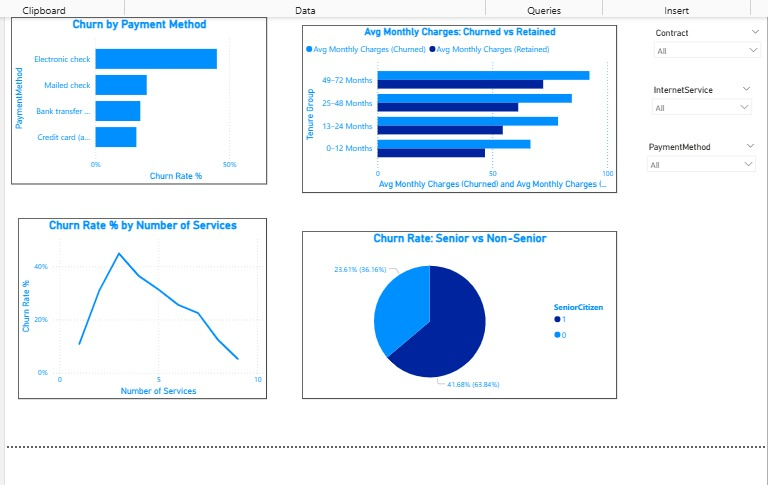

The dashboard page shown, as its layout file describes it:
{"tool":"powerbi","page":{"name":"Deep Dive","canvas":[1280,720],"ordinal":1},"visuals":[{"type":"barChart","title":"Churn by Payment Method","fields":{"Category":["WA_Fn-UseC_-Telco-Customer-Churn.PaymentMethod"],"Y":["WA_Fn-UseC_-Telco-Customer-Churn.Churn Rate %"]},"box":[10.1,0,430,280.5],"z":0},{"type":"clusteredBarChart","title":"Avg Monthly Charges: Churned vs Retained","fields":{"Category":["WA_Fn-UseC_-Telco-Customer-Churn.Tenure Group"],"Y":["WA_Fn-UseC_-Telco-Customer-Churn.Avg Monthly Charges (Churned)","WA_Fn-UseC_-Telco-Customer-Churn.Avg Monthly Charges (Retained)"]},"box":[498.9,13.4,529.1,282.2],"z":1},{"type":"pieChart","title":"Churn Rate: Senior vs Non-Senior","fields":{"Category":["WA_Fn-UseC_-Telco-Customer-Churn.SeniorCitizen"],"Y":["WA_Fn-UseC_-Telco-Customer-Churn.Churn Rate %"]},"box":[498.9,359.5,529.1,282.2],"z":2},{"type":"lineChart","fields":{"Y":["WA_Fn-UseC_-Telco-Customer-Churn.Churn Rate %"],"Category":["WA_Fn-UseC_-Telco-Customer-Churn.Number of Services"]},"box":[21.8,337.6,418.3,304],"z":3},{"type":"slicer","fields":{"Values":["WA_Fn-UseC_-Telco-Customer-Churn.Contract"]},"box":[1080.1,13.4,199.9,90.7],"z":4},{"type":"slicer","fields":{"Values":["WA_Fn-UseC_-Telco-Customer-Churn.InternetService"]},"box":[1076.7,109.2,188.1,90.7],"z":5},{"type":"slicer","fields":{"Values":["WA_Fn-UseC_-Telco-Customer-Churn.PaymentMethod"]},"box":[1068.3,204.9,203.3,90.7],"z":6}]}

Visuals, with their boxes in screenshot pixels (x1, y1, x2, y2):
"Churn by Payment Method" barChart: x1=12 y1=16 x2=266 y2=182
"Avg Monthly Charges: Churned vs Retained" clusteredBarChart: x1=301 y1=24 x2=614 y2=191
"Churn Rate: Senior vs Non-Senior" pieChart: x1=301 y1=229 x2=614 y2=396
lineChart - WA_Fn-UseC_-Telco-Customer-Churn.Churn Rate % x WA_Fn-UseC_-Telco-Customer-Churn.Number of Services: x1=19 y1=216 x2=266 y2=396
slicer - WA_Fn-UseC_-Telco-Customer-Churn.Contract: x1=645 y1=24 x2=763 y2=78
slicer - WA_Fn-UseC_-Telco-Customer-Churn.InternetService: x1=643 y1=81 x2=754 y2=134
slicer - WA_Fn-UseC_-Telco-Customer-Churn.PaymentMethod: x1=638 y1=137 x2=758 y2=191
